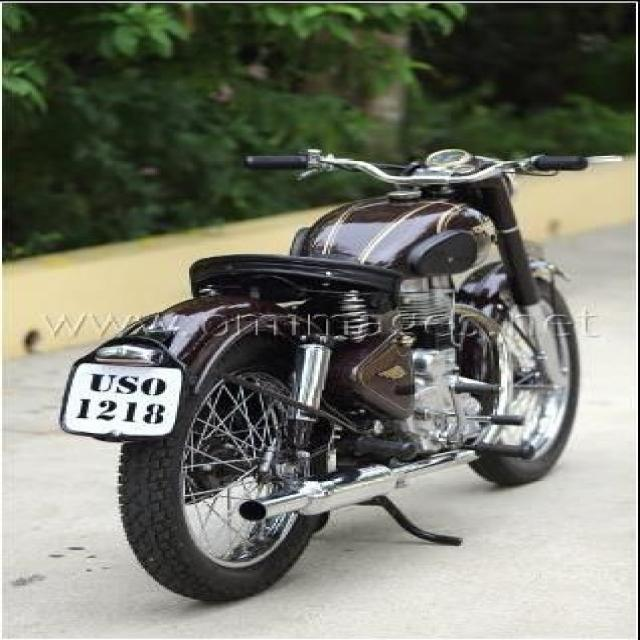license_plate: (58, 360, 184, 440)
